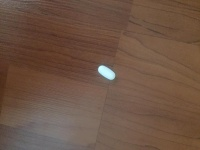Centik Buskopan: (97, 64, 116, 81)
